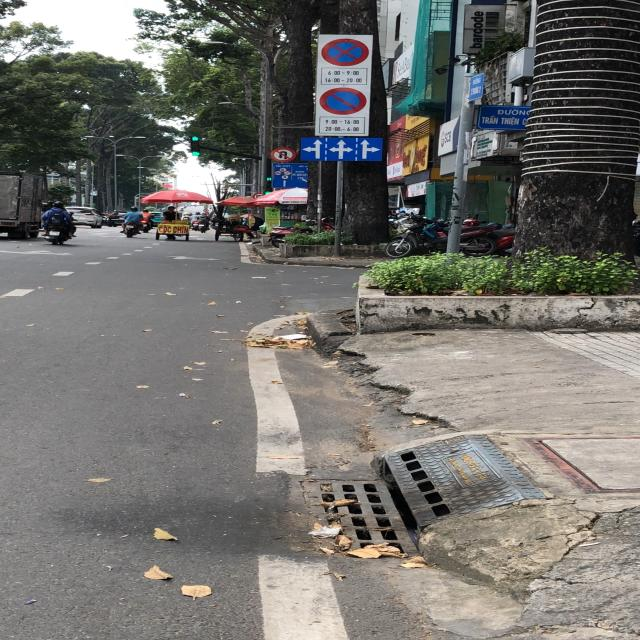Bien bao cam do xe: (318, 86, 368, 115)
Bien bao cam dung xe va do xe: (319, 38, 370, 67)
Bien bao cam quay dau xe: (268, 146, 298, 163)
